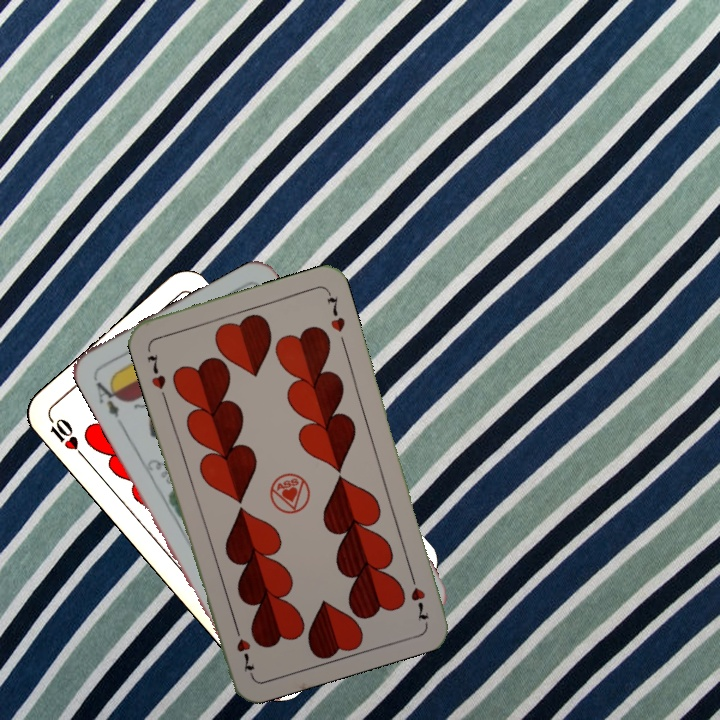EA: (91, 374, 125, 421)
H10: (45, 413, 88, 461)
H7: (405, 567, 432, 623), (143, 349, 169, 392)
